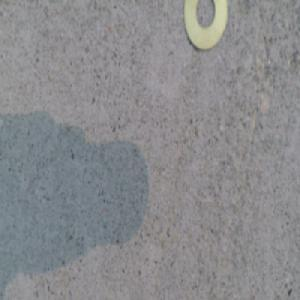Washer: (181, 0, 227, 55)
